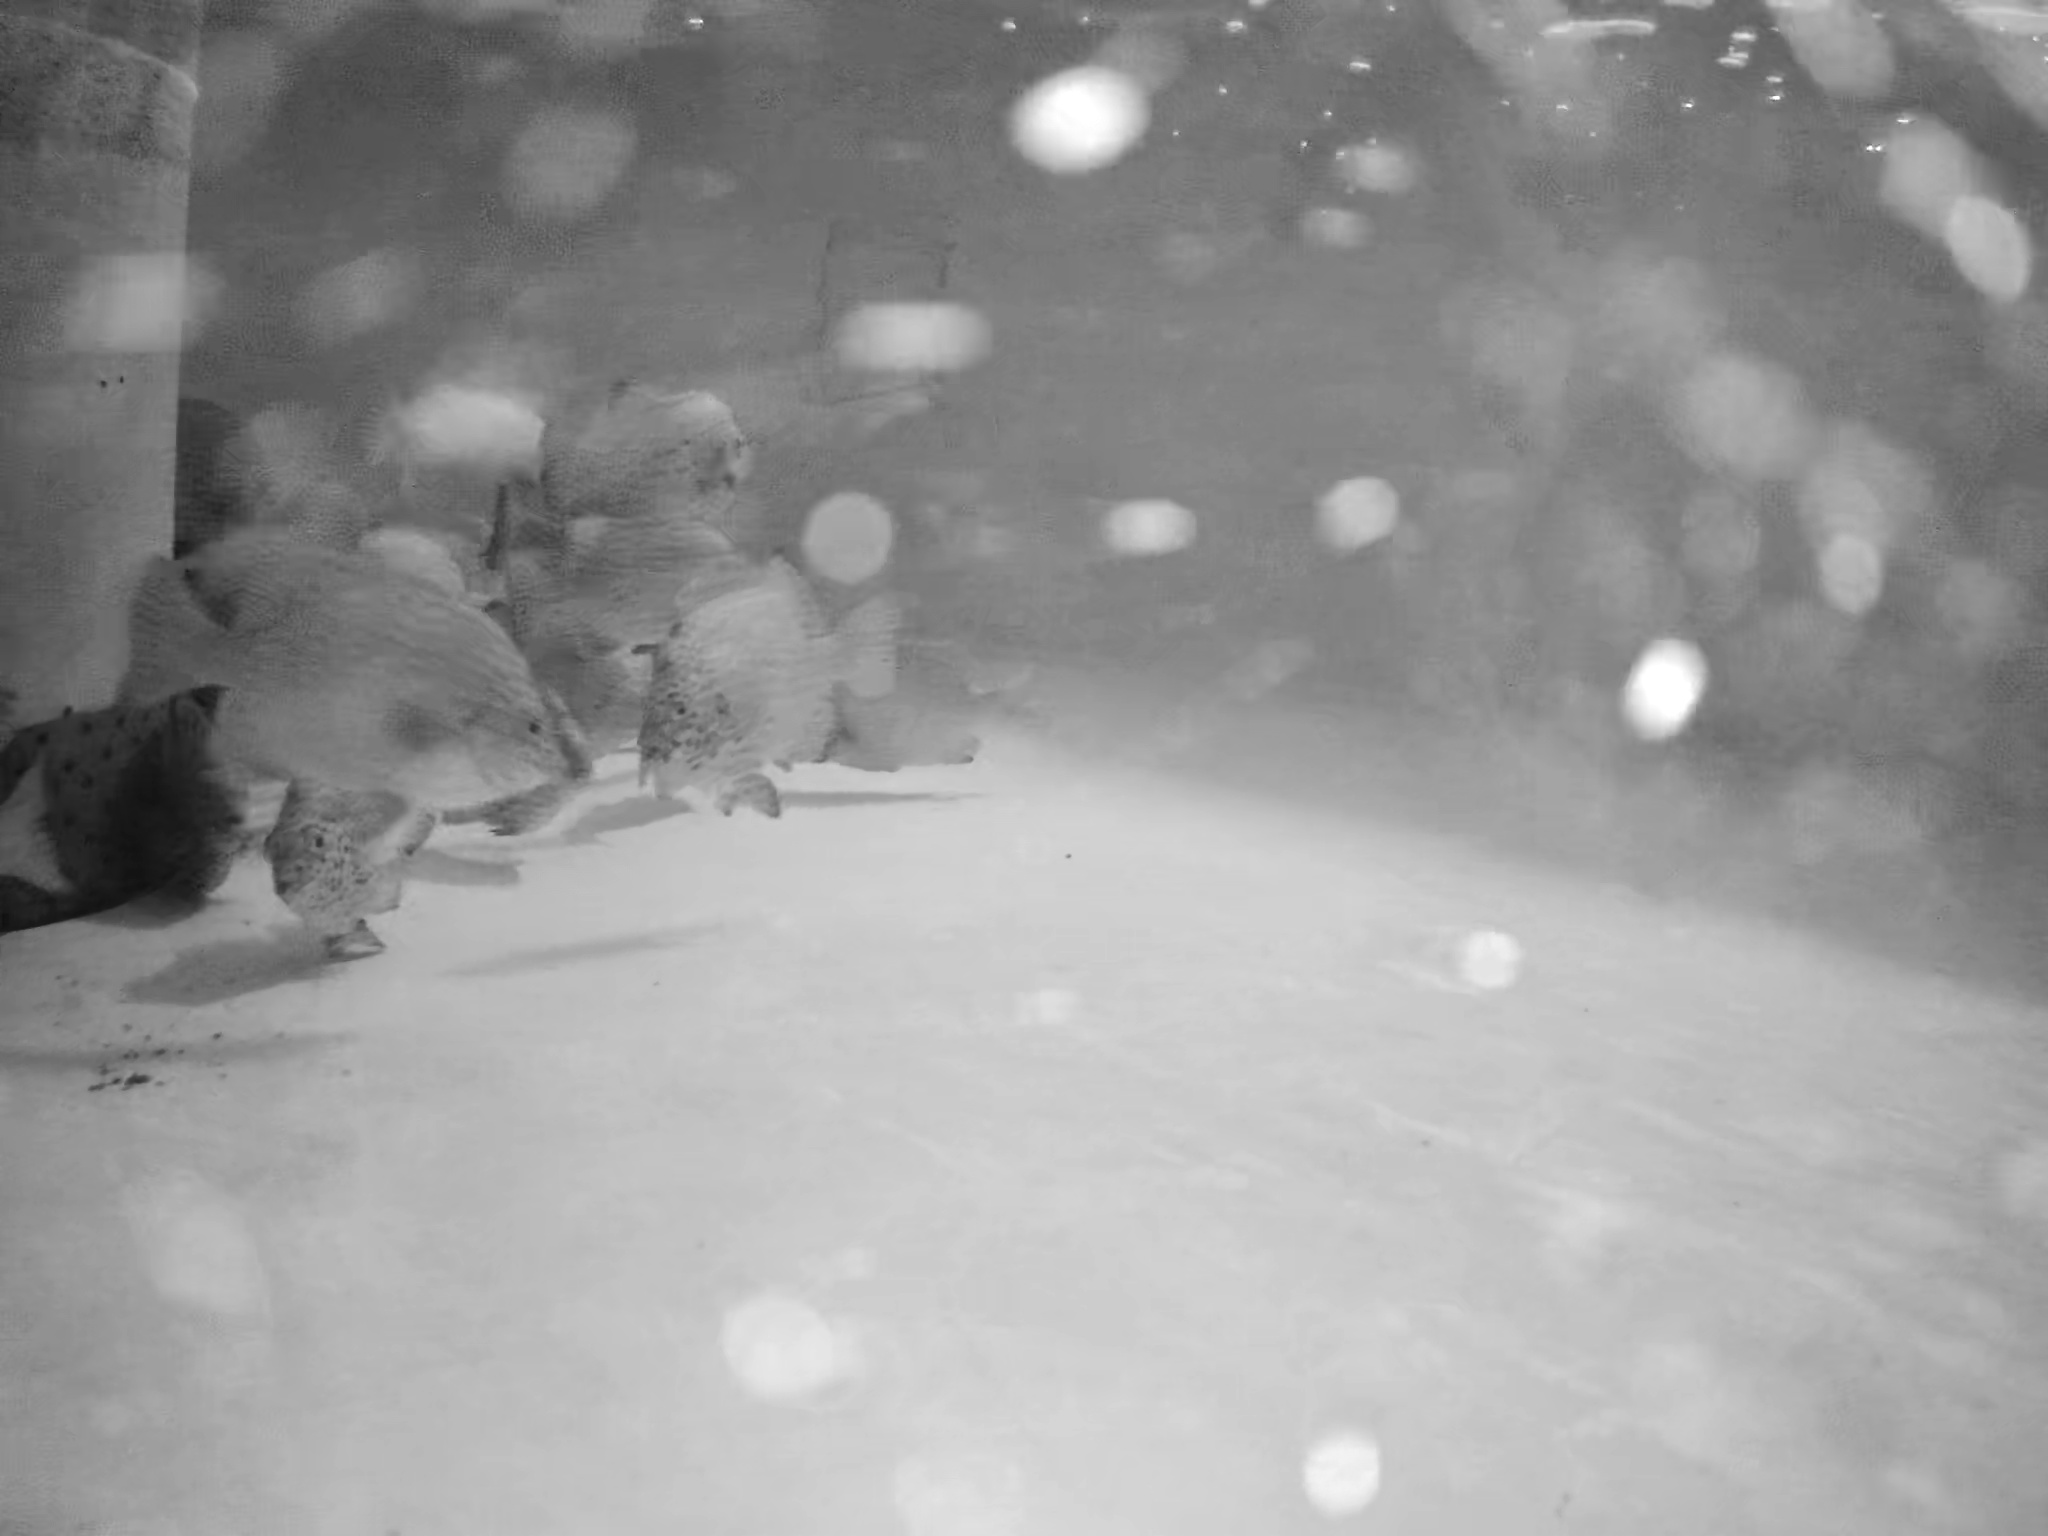fish: (126, 524, 569, 821), (634, 581, 1000, 803), (164, 387, 368, 621), (505, 521, 780, 653), (252, 770, 427, 975), (539, 386, 769, 513), (368, 382, 568, 492)
